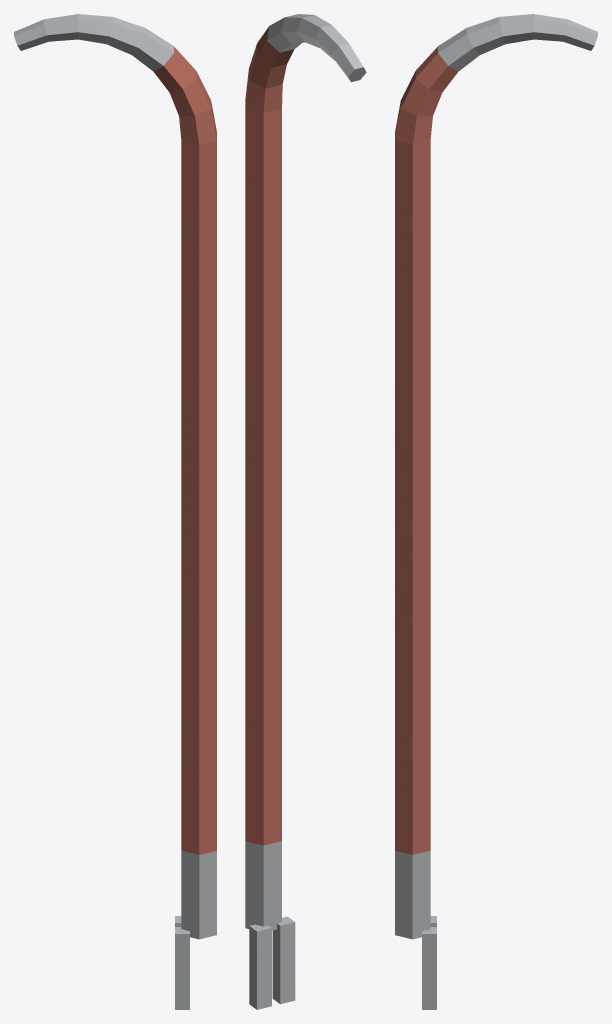
The model's file is crowbar.glb.
The picture shows the model from 3 angles, left to right: view 1: azimuth 90°, elevation 25°; view 2: azimuth 210°, elevation 25°; view 3: azimuth 270°, elevation 25°; orthographic projection. The views are drawn at different scales.
Visible parts, largest first — view 1: crowbar; view 2: crowbar; view 3: crowbar.
Part boxes in pixels (x1=…): crowbar: x1=14, y1=14, x2=216, y2=1009; crowbar: x1=245, y1=14, x2=366, y2=1009; crowbar: x1=395, y1=14, x2=597, y2=1009.
Bounding box in the file's own units: 0.023 × 0.5825 × 0.1088.
1 material, 1 textured.
